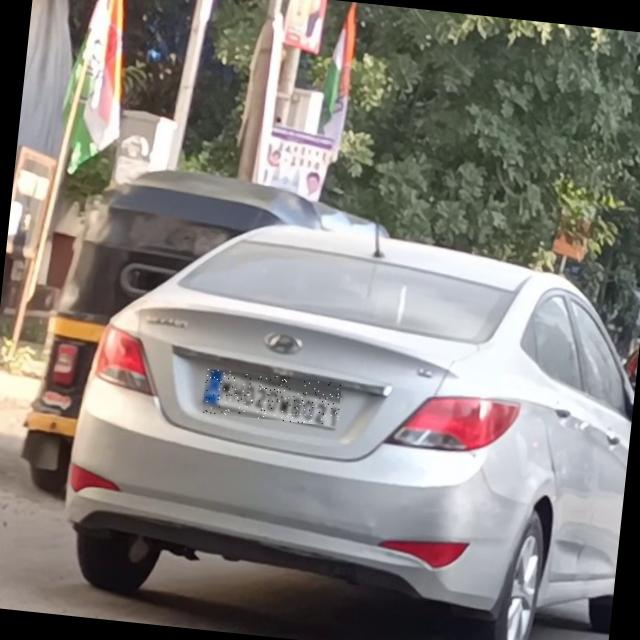Plate: (203, 370, 343, 428)
